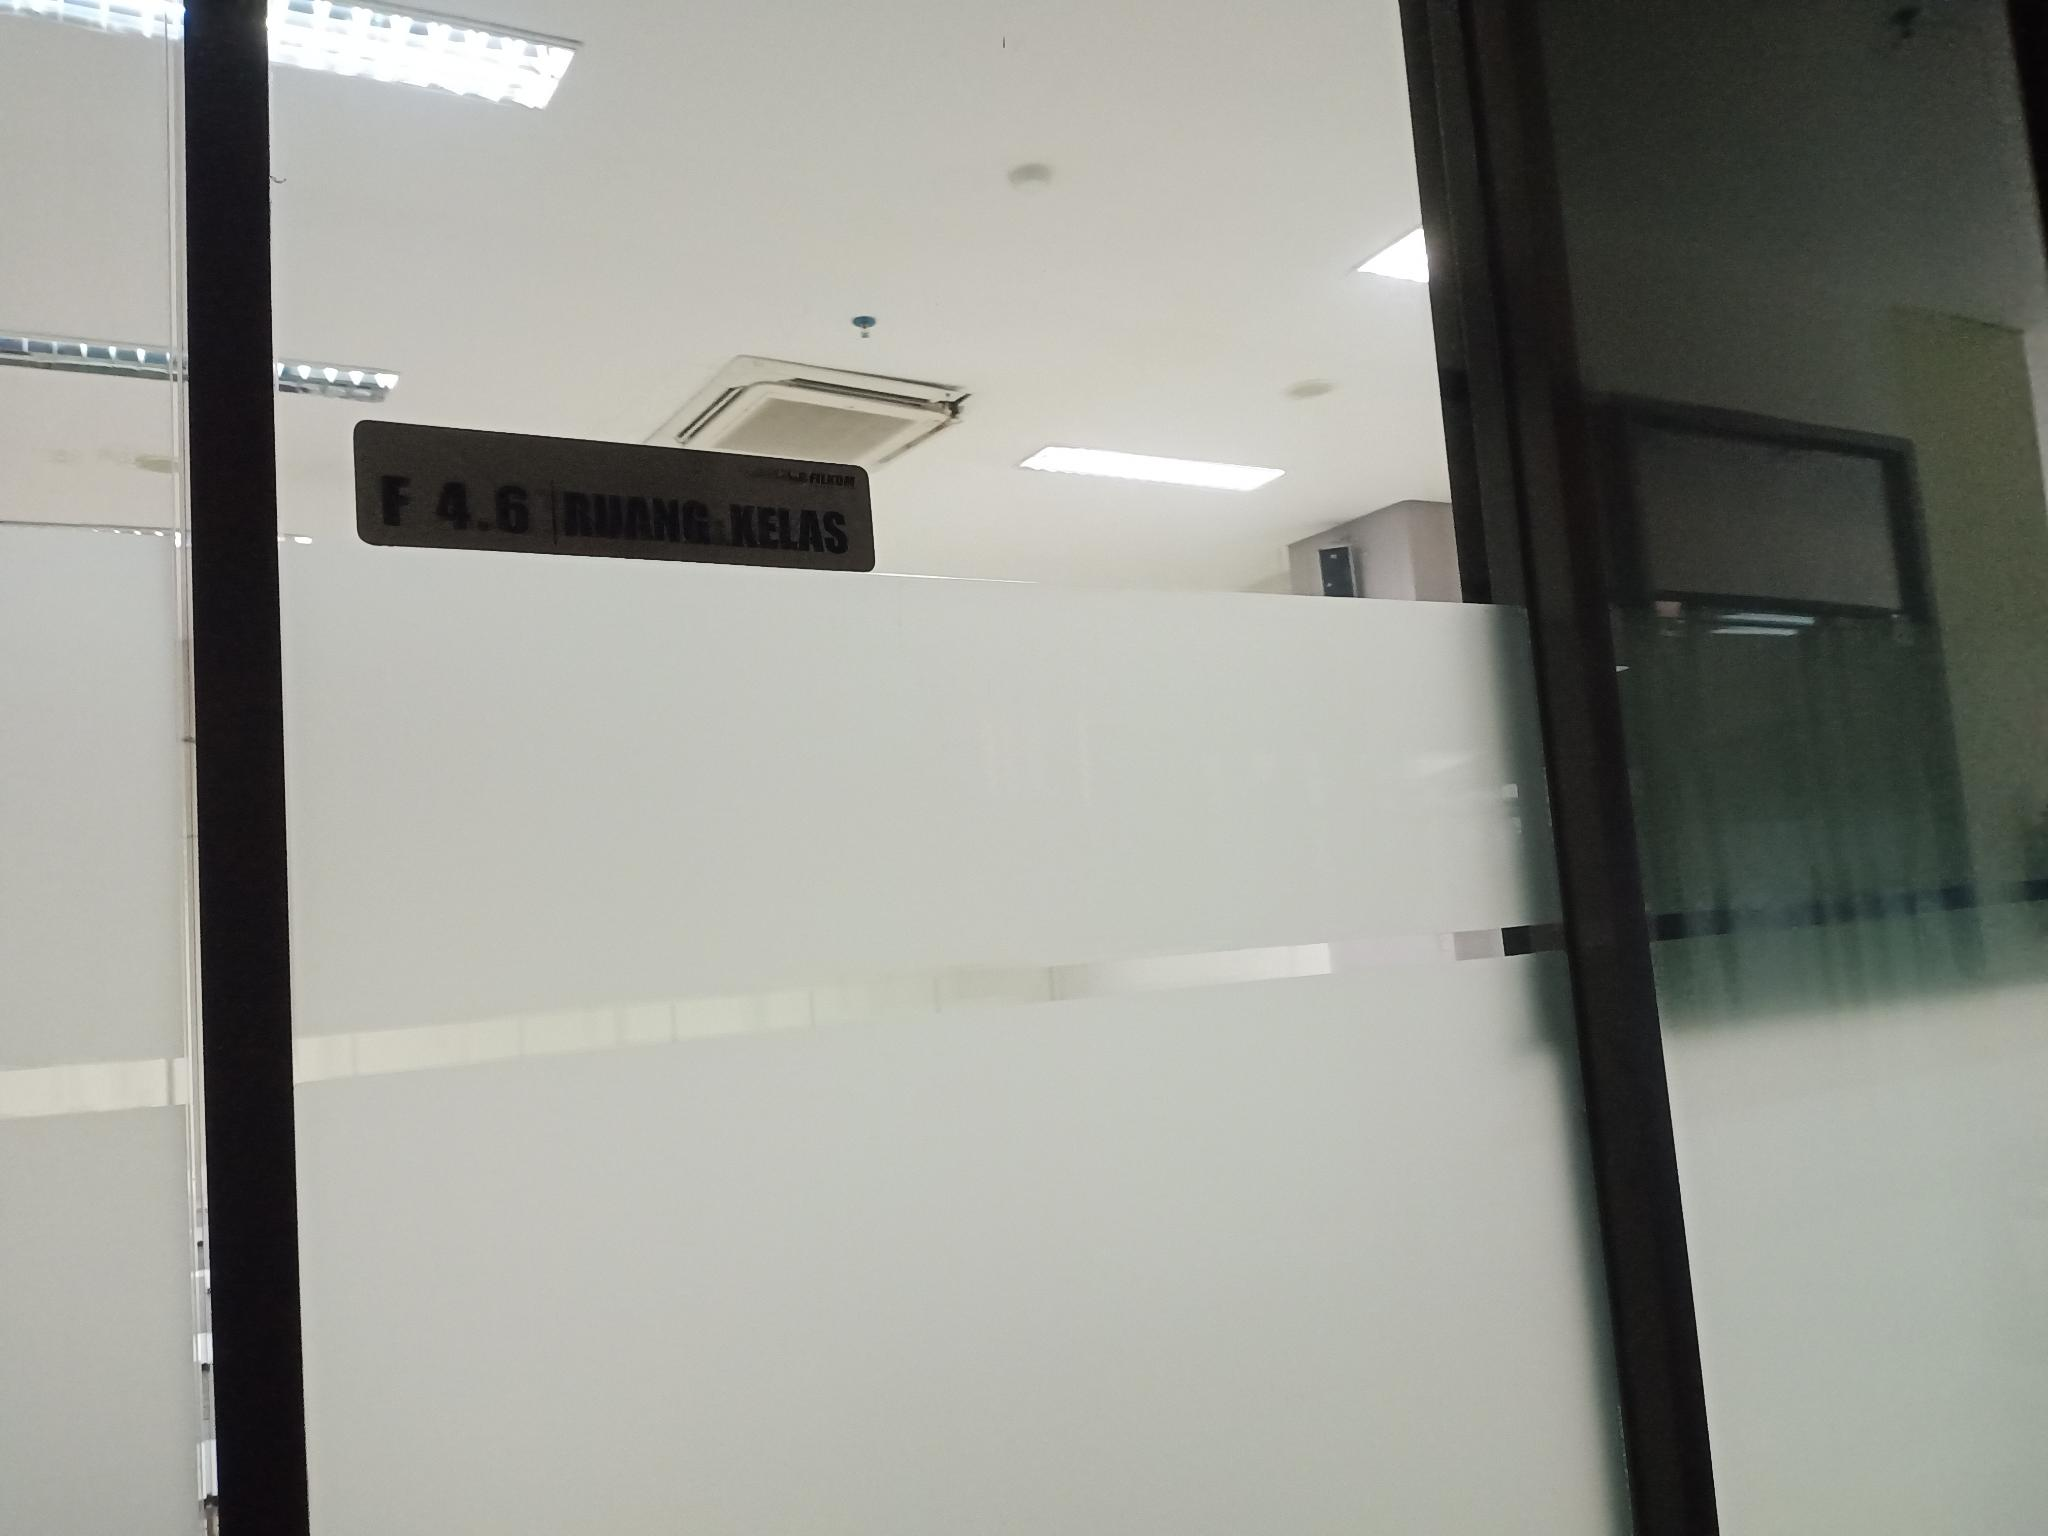plate: (353, 419, 877, 573)
